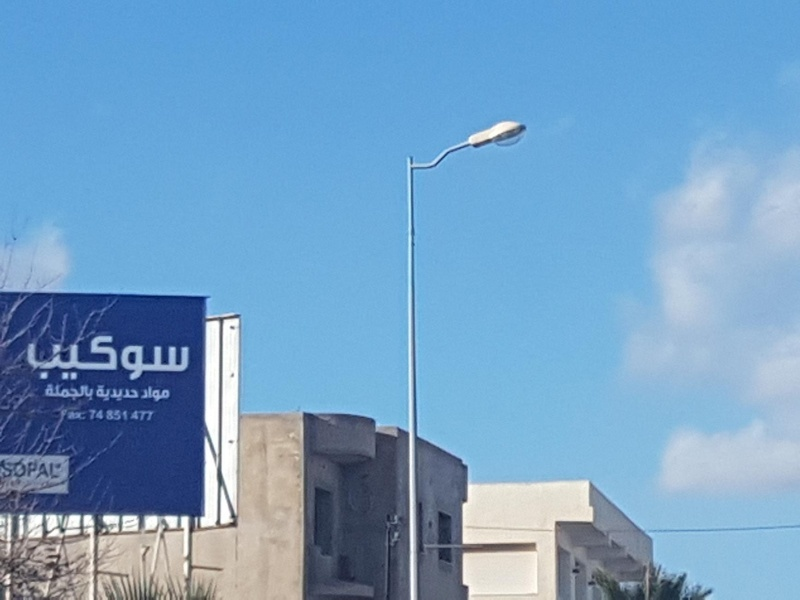text: (33, 335, 48, 385), (49, 335, 64, 385), (65, 335, 80, 385), (81, 335, 96, 385), (97, 335, 112, 385), (113, 335, 128, 385), (129, 335, 144, 385), (145, 335, 160, 385), (161, 335, 176, 385), (177, 335, 190, 385), (17, 460, 32, 481), (33, 460, 48, 481), (2, 460, 16, 481), (49, 460, 63, 481), (49, 382, 64, 401), (65, 382, 80, 401), (97, 385, 112, 403), (113, 385, 128, 403), (145, 386, 160, 403), (27, 335, 32, 385), (81, 382, 94, 401), (129, 385, 139, 403), (113, 410, 128, 421), (161, 386, 170, 403), (68, 410, 80, 421), (132, 411, 144, 422), (145, 411, 155, 422), (88, 409, 96, 420), (97, 409, 104, 420), (140, 386, 144, 403), (81, 410, 87, 421), (45, 382, 48, 401), (107, 410, 112, 421)
